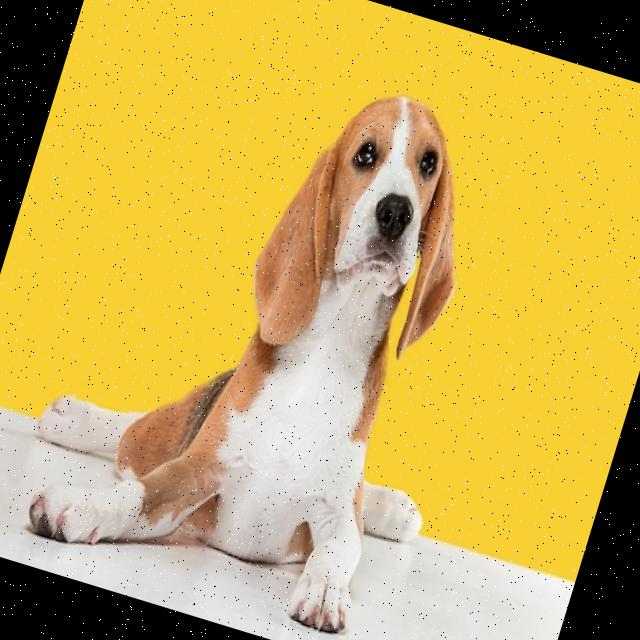Dog: (2, 21, 541, 640)
